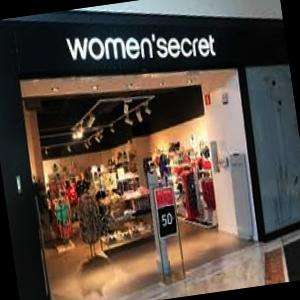women_secret: (56, 15, 220, 81)
